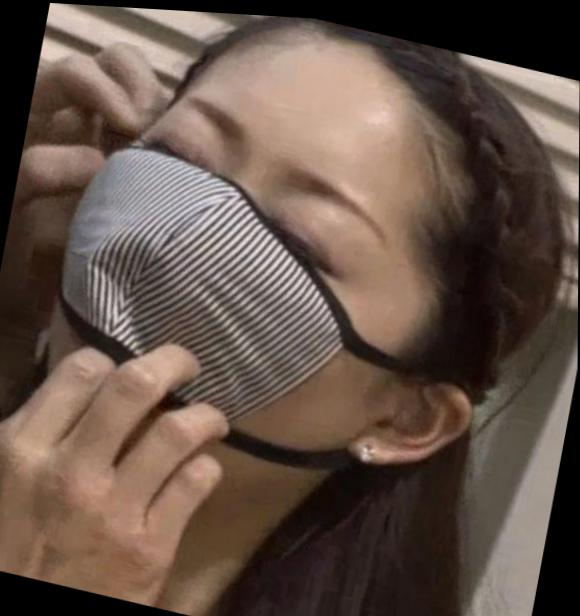WRONG: (14, 42, 434, 535)
